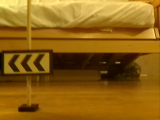left: (1, 50, 51, 74)
